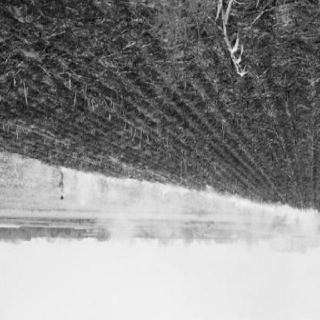Smoke: (227, 196, 320, 221)
